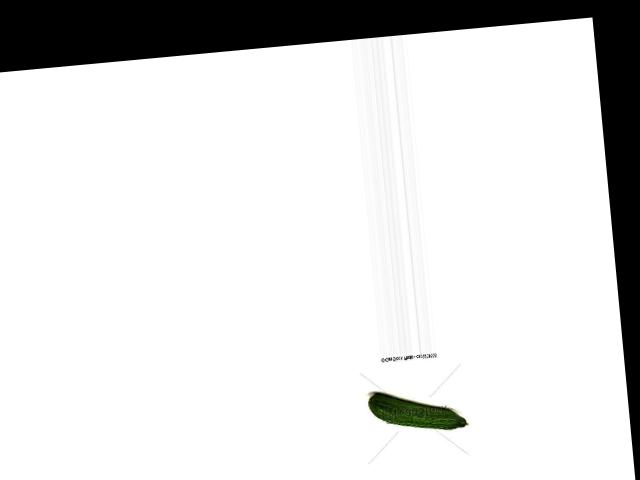cucumber: (368, 385, 468, 436)
